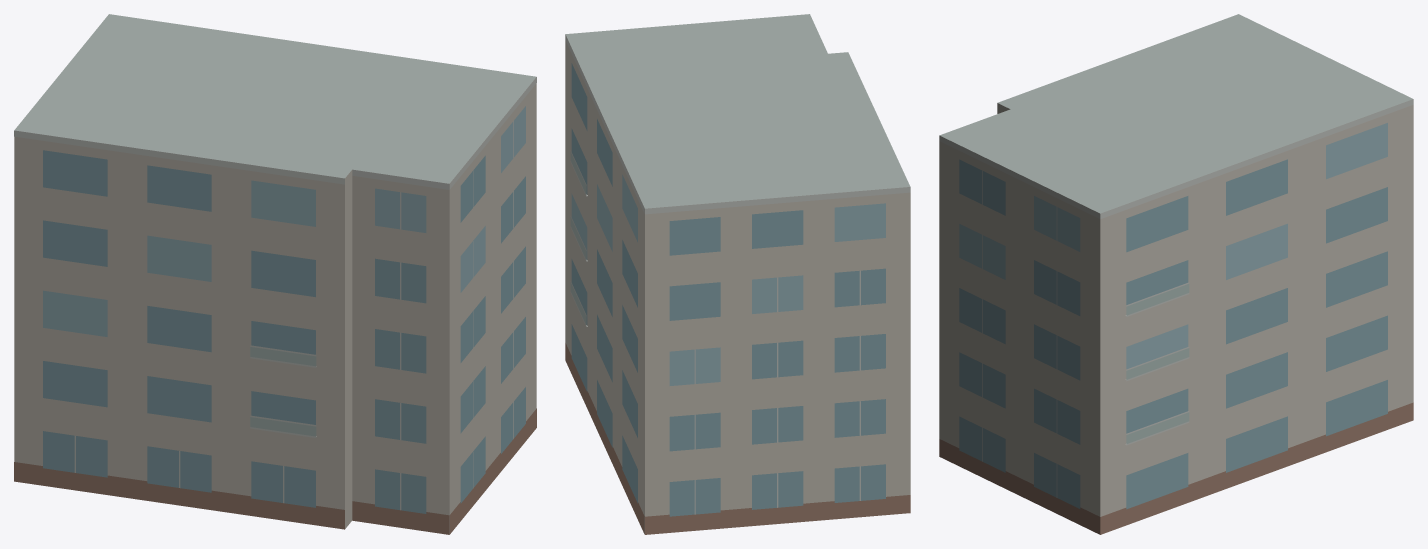
Rendered from survey-upis-32638488.glb.
3 views of the same model, side by side, from view 1: azimuth 30°, elevation 25°; view 2: azimuth 150°, elevation 25°; view 3: azimuth 270°, elevation 25° (orthographic). The views are drawn at different scales.
Parts seen in each view (by area): view 1: survey-upis-32638488.tmp; view 2: survey-upis-32638488.tmp; view 3: survey-upis-32638488.tmp.
Part boxes in pixels (x1,y1,x2,y2): survey-upis-32638488.tmp: (14, 14, 536, 534); survey-upis-32638488.tmp: (565, 14, 910, 534); survey-upis-32638488.tmp: (939, 14, 1413, 534).
Bounding box in the file's own units: 18.53 × 13.9 × 18.6.
